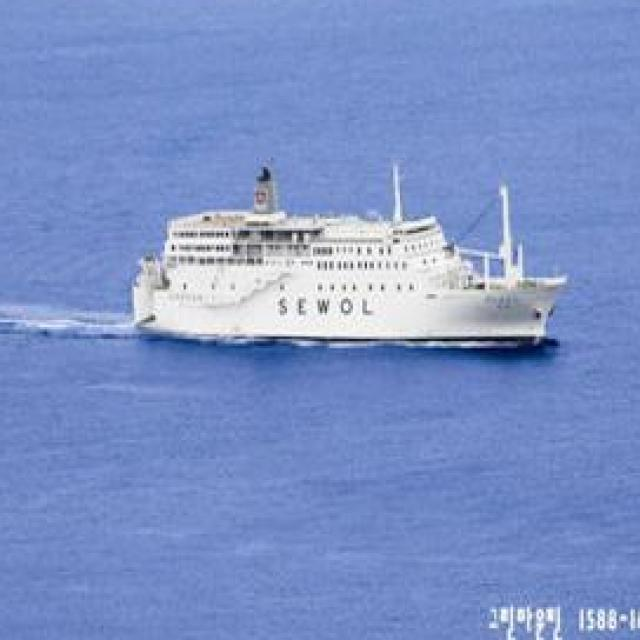passenger ship: (138, 145, 576, 365)
